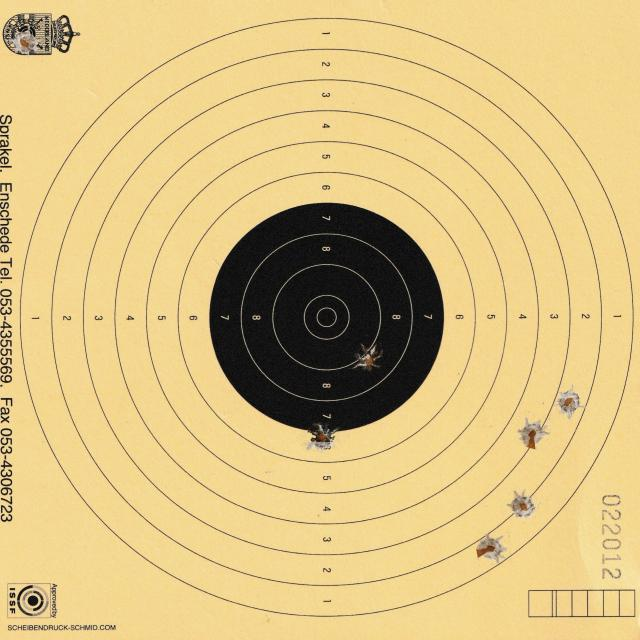0: (6, 25, 44, 59)
2: (472, 531, 510, 566), (553, 384, 586, 420), (506, 488, 540, 520)
3: (516, 416, 550, 450)
7: (304, 420, 338, 454)
9: (350, 341, 384, 373)
Target: (17, 15, 635, 621)
black_contour: (209, 202, 444, 434)
